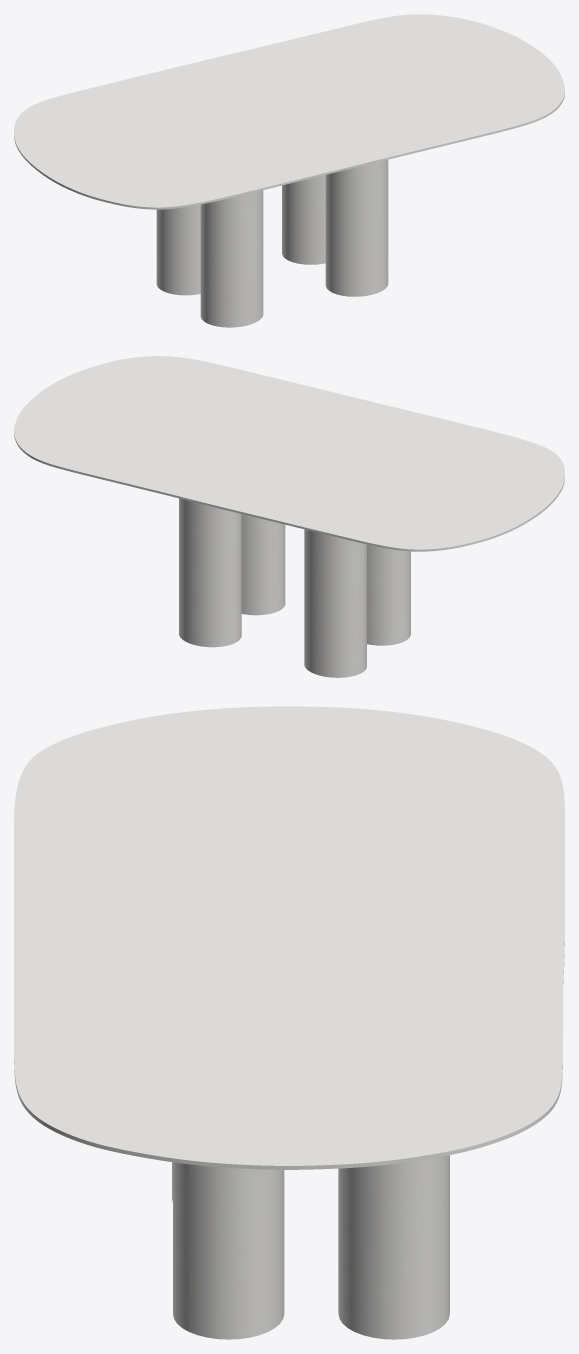
Rendered from purewhite_oval_facet_grove.glb.
The picture shows the model from 3 angles, top to bottom: view 1: azimuth 30°, elevation 25°; view 2: azimuth 150°, elevation 25°; view 3: azimuth 270°, elevation 25°; orthographic projection. The views are drawn at different scales.
Visible parts, largest first — view 1: facet_oval, grove; view 2: facet_oval, grove; view 3: facet_oval, grove.
Boxes of the visible parts, x1,y1,x2,y2 form: facet_oval: [14, 14, 564, 209]; grove: [156, 159, 388, 327]; facet_oval: [14, 356, 564, 551]; grove: [179, 498, 410, 677]; facet_oval: [14, 706, 564, 1169]; grove: [172, 1155, 449, 1339].
Size of the model in its own units: 7.5 by 2.51 by 3.8.
Materials: 1 (1 with a texture image).
